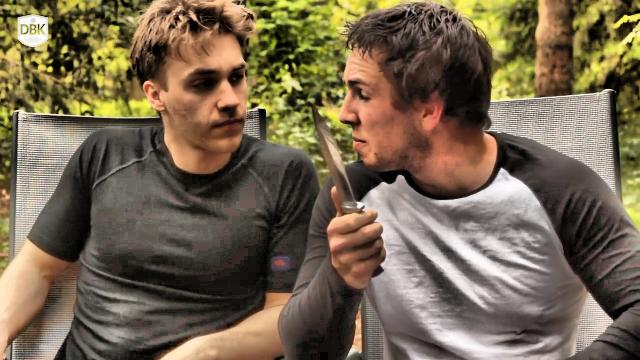knife: (302, 94, 393, 282)
